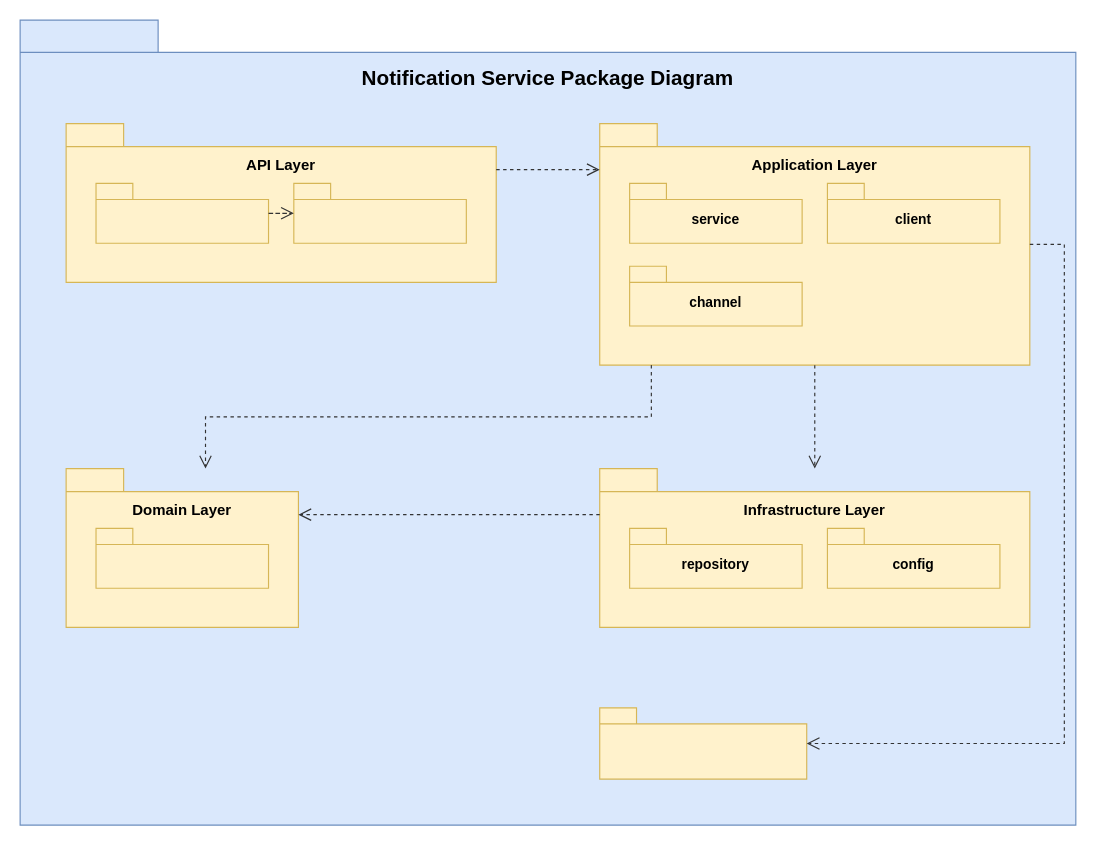
This 1097x845 diagram has some shape labels left out. Each missing label, with the centre of its shape:
"common-lib" belongs at (x=703, y=743).
"controller" belongs at (x=182, y=212).
"dto" belongs at (x=379, y=212).
"model" belongs at (x=182, y=557).
